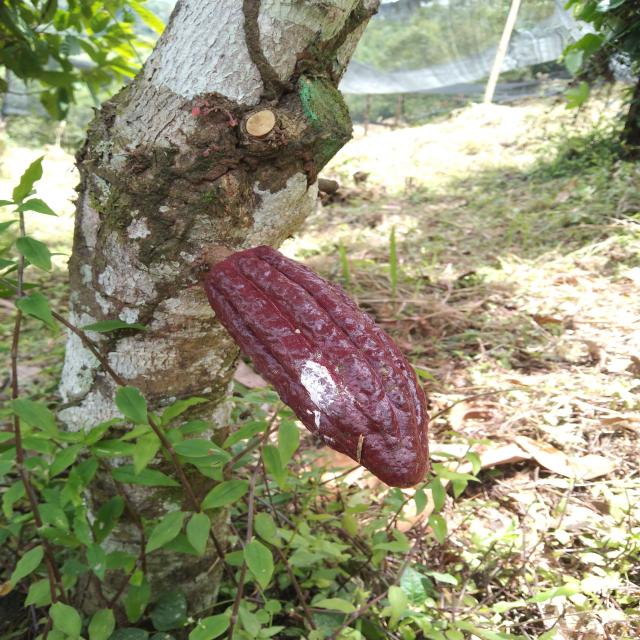Monilia: (202, 245, 442, 484)
